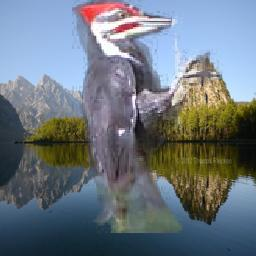Woodpecker: (73, 0, 224, 233)
